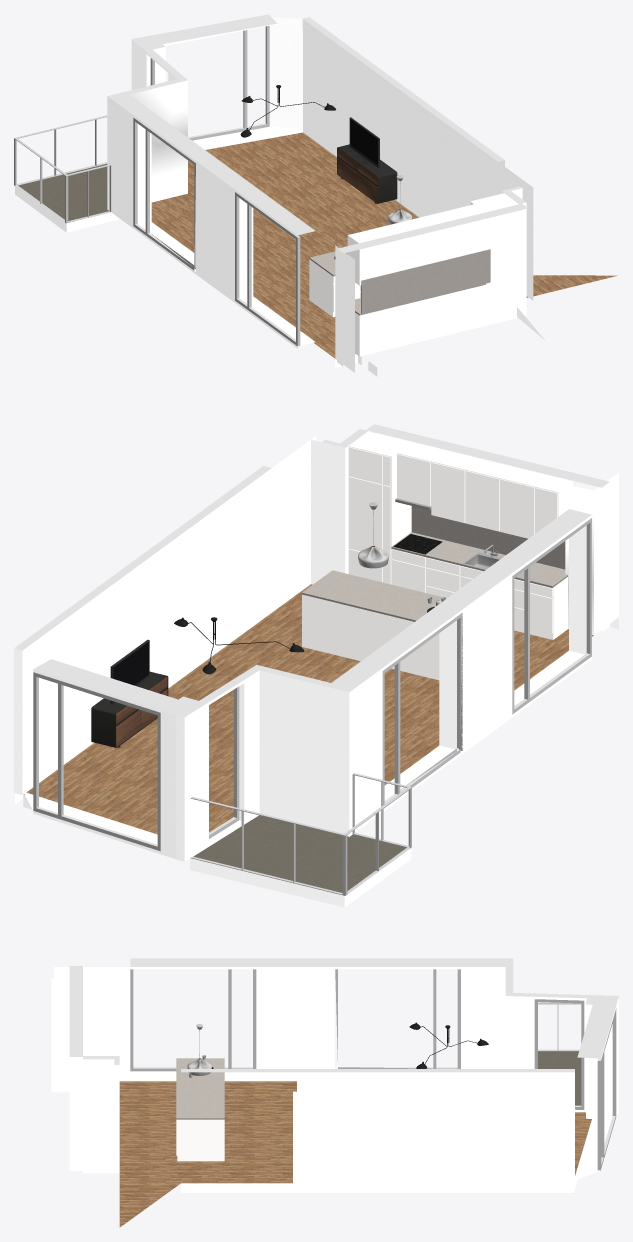
File: Unit for Color Change.glb
3 renders of one model, top to bottom at view 1: azimuth 30°, elevation 25°; view 2: azimuth 150°, elevation 25°; view 3: azimuth 270°, elevation 25°, orthographic. The views are drawn at different scales.
Parts seen in each view (by area): view 1: mesh_0_4629740761572839012_0, Kafpoosh, Kabinet, mesh_0_6448430487820829449_0, mesh_0_3543336994329509396_0, mesh_0_7193193169522956071_0, mesh_0_-6065827286677485086_0, mesh_0_6829121958349867588_0, mesh_0_7804182494079628097_0, mesh_0_2841569450385759303_0, mesh_0_-8350495496886339162_0, mesh_0_7571296378870014118_0 (+2 smaller); view 2: mesh_0_4629740761572839012_0, mesh_0_6448430487820829449_0, Kabinet, Kafpoosh, mesh_0_7193193169522956071_0, mesh_0_3543336994329509396_0, mesh_0_6829121958349867588_0, mesh_0_4070740005455013053_0, mesh_0_7571296378870014118_0, mesh_0_-8350495496886339162_0, mesh_0_8055130045690324387_0, mesh_0_2841569450385759303_0 (+4 smaller); view 3: mesh_0_7193193169522956071_0, Kafpoosh, mesh_0_4629740761572839012_0, mesh_0_3543336994329509396_0, Kabinet, mesh_0_4070740005455013053_0, mesh_0_6448430487820829449_0, mesh_0_7571296378870014118_0, mesh_0_2841569450385759303_0, mesh_0_6829121958349867588_0, mesh_0_-4080057616761426010_0.
Boxes of the visible parts, x1=… form: mesh_0_4629740761572839012_0: x1=107, y1=17, x2=544, y2=366; Kafpoosh: x1=151, y1=132, x2=617, y2=358; Kabinet: x1=309, y1=193, x2=519, y2=356; mesh_0_6448430487820829449_0: x1=15, y1=54, x2=533, y2=302; mesh_0_3543336994329509396_0: x1=107, y1=14, x2=527, y2=270; mesh_0_7193193169522956071_0: x1=66, y1=39, x2=526, y2=376; mesh_0_-6065827286677485086_0: x1=361, y1=249, x2=490, y2=313; mesh_0_6829121958349867588_0: x1=18, y1=164, x2=108, y2=222; mesh_0_7804182494079628097_0: x1=337, y1=144, x2=397, y2=203; mesh_0_2841569450385759303_0: x1=235, y1=192, x2=300, y2=346; mesh_0_-8350495496886339162_0: x1=14, y1=115, x2=111, y2=223; mesh_0_7571296378870014118_0: x1=188, y1=25, x2=269, y2=140; mesh_0_4629740761572839012_0: x1=15, y1=482, x2=610, y2=907; mesh_0_6448430487820829449_0: x1=14, y1=431, x2=512, y2=906; Kabinet: x1=302, y1=431, x2=572, y2=680; Kafpoosh: x1=23, y1=584, x2=593, y2=834; mesh_0_7193193169522956071_0: x1=176, y1=431, x2=618, y2=861; mesh_0_3543336994329509396_0: x1=14, y1=424, x2=609, y2=808; mesh_0_6829121958349867588_0: x1=193, y1=815, x2=406, y2=892; mesh_0_4070740005455013053_0: x1=302, y1=547, x2=552, y2=620; mesh_0_7571296378870014118_0: x1=33, y1=672, x2=160, y2=851; mesh_0_-8350495496886339162_0: x1=190, y1=773, x2=411, y2=895; mesh_0_8055130045690324387_0: x1=411, y1=506, x2=565, y2=569; mesh_0_2841569450385759303_0: x1=512, y1=518, x2=591, y2=714; mesh_0_7193193169522956071_0: x1=69, y1=967, x2=618, y2=1192; Kafpoosh: x1=119, y1=1081, x2=591, y2=1227; mesh_0_4629740761572839012_0: x1=51, y1=967, x2=618, y2=1180; mesh_0_3543336994329509396_0: x1=69, y1=958, x2=618, y2=1072; Kabinet: x1=83, y1=977, x2=224, y2=1161; mesh_0_4070740005455013053_0: x1=176, y1=1058, x2=224, y2=1119; mesh_0_6448430487820829449_0: x1=297, y1=1000, x2=617, y2=1191; mesh_0_7571296378870014118_0: x1=597, y1=1008, x2=616, y2=1170; mesh_0_2841569450385759303_0: x1=130, y1=969, x2=256, y2=1071; mesh_0_6829121958349867588_0: x1=538, y1=1051, x2=581, y2=1105; mesh_0_-4080057616761426010_0: x1=534, y1=999, x2=584, y2=1109.
Size of the model in its own units: 7.57 by 2.46 by 10.9.
Materials: 20 (13 with a texture image).
